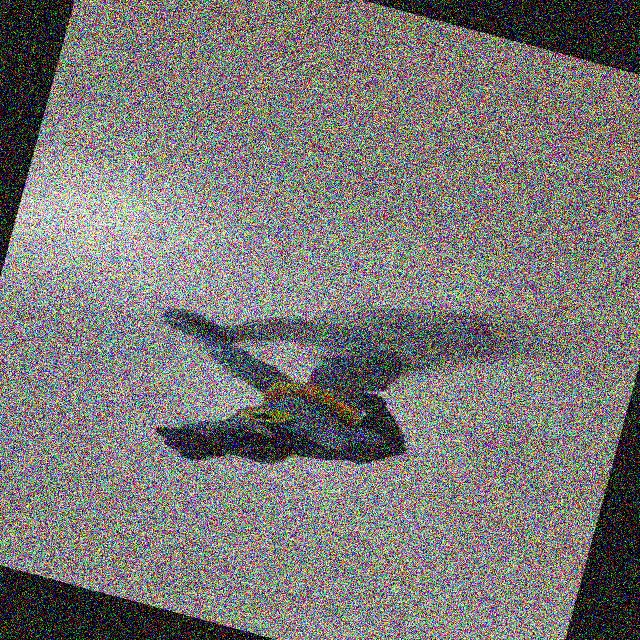Batman: (98, 259, 476, 550)
